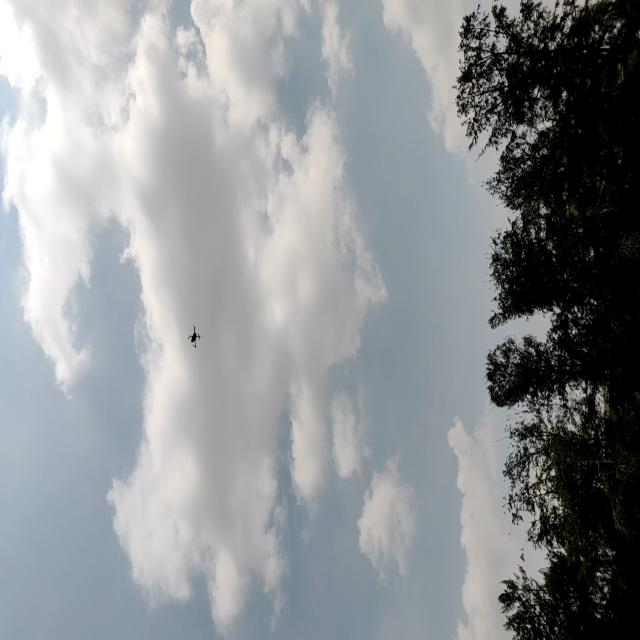drone: (182, 319, 206, 356)
